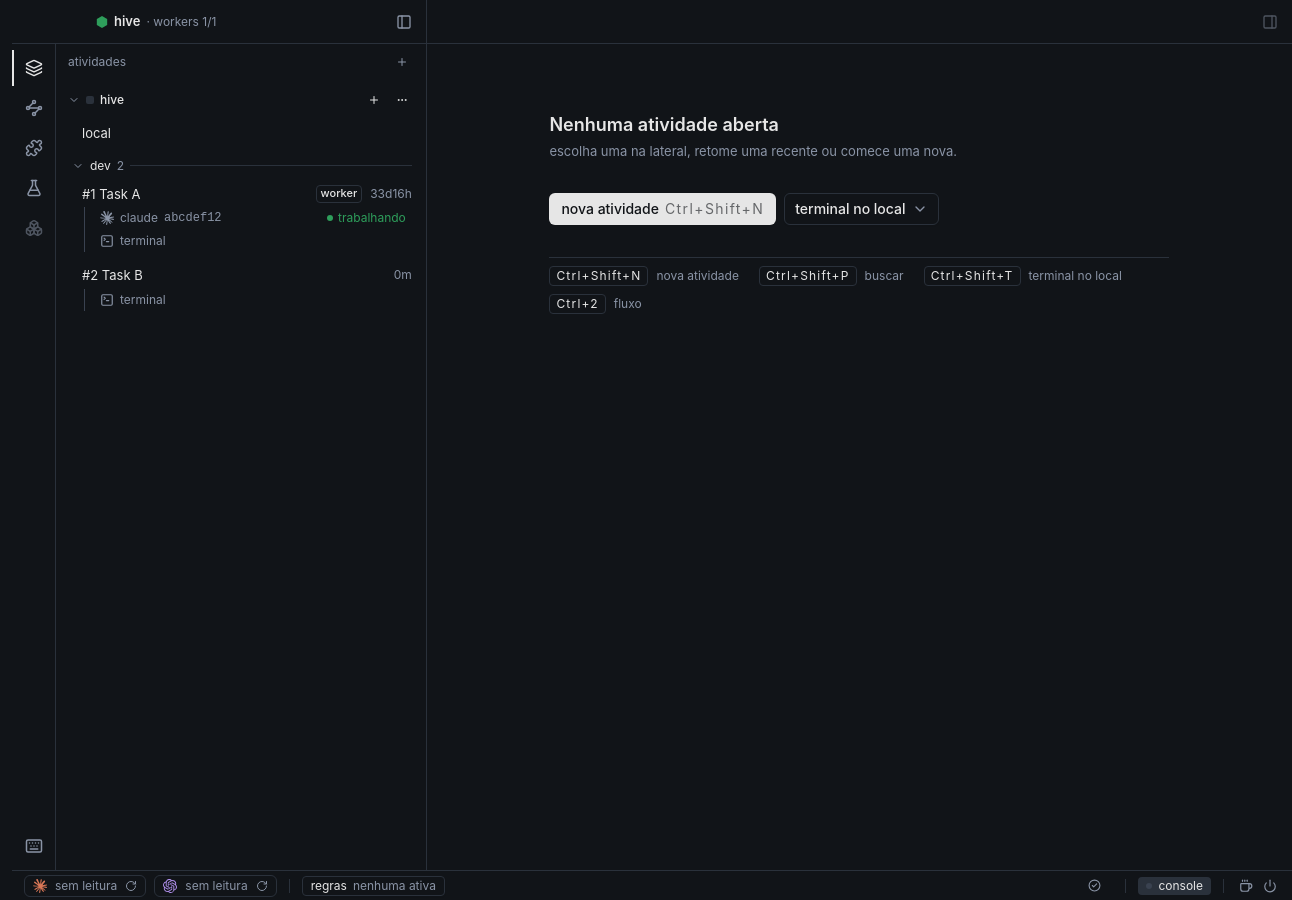
the rail lists atividades then fluxo and the header no view switch; Cmd+1 / Cmd+2 and the rail show the Atividades and Automação tabs, the center following (#53
Press 2
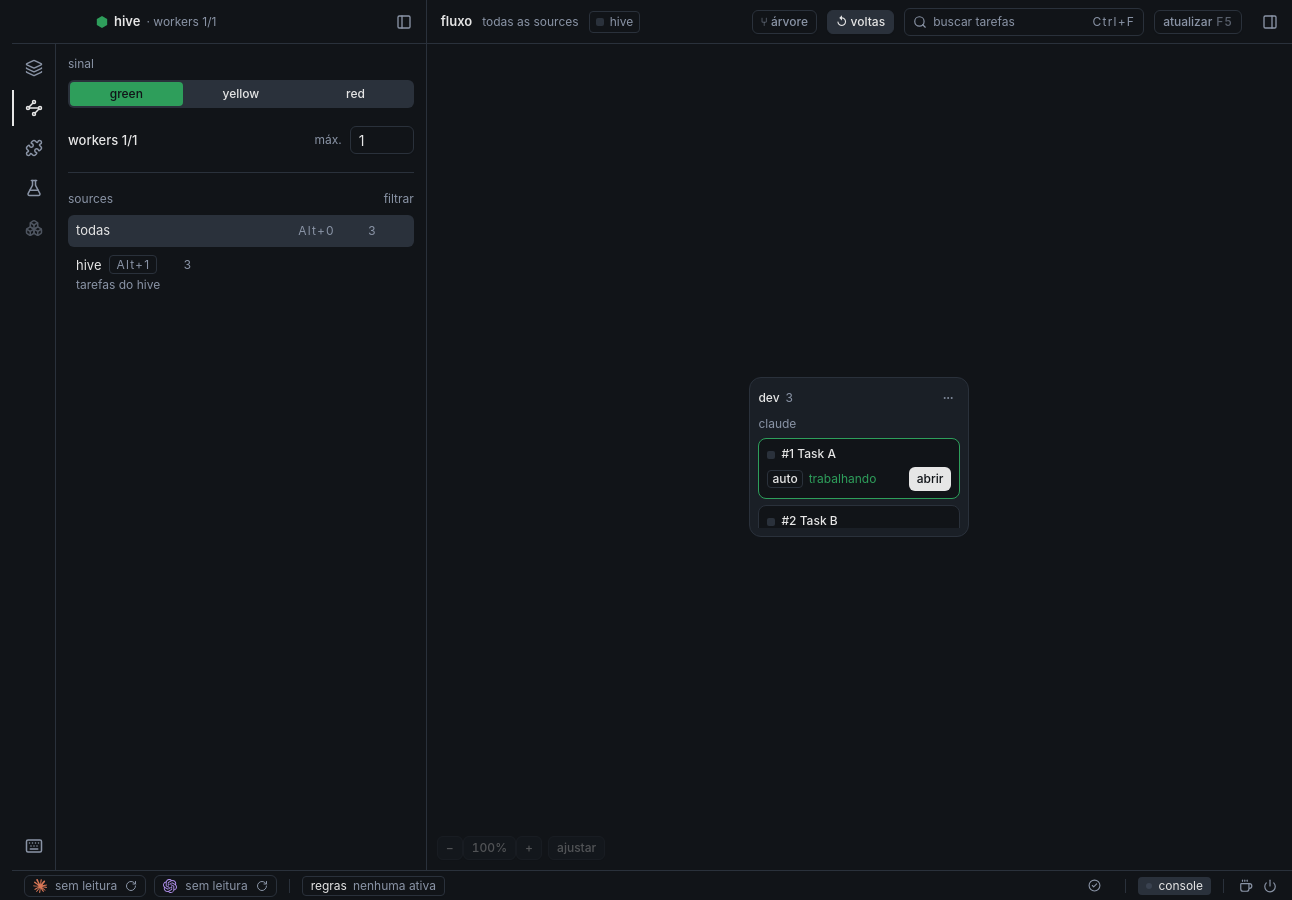
Expected: the element that starts with "dev" is shown
Press 1
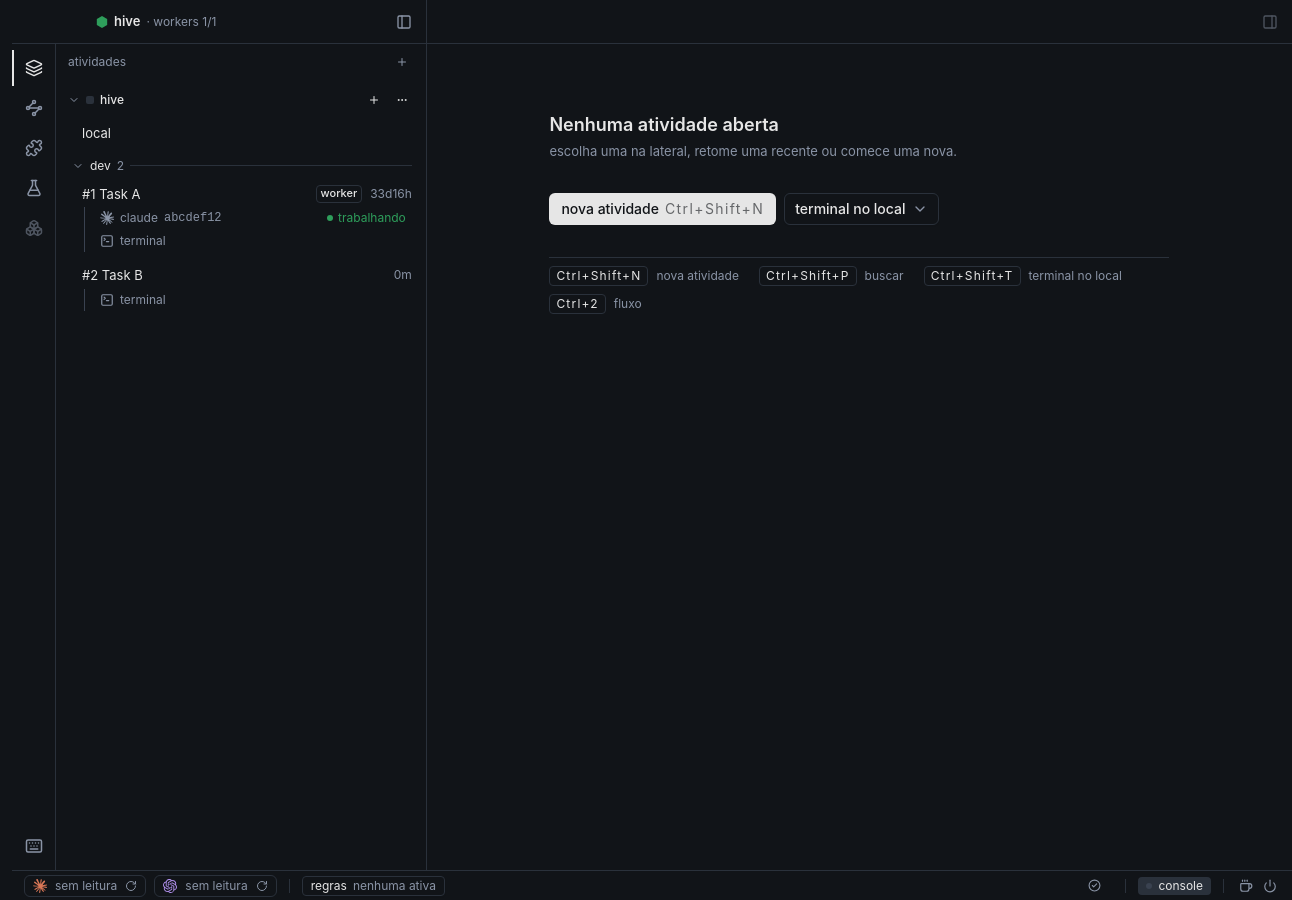
Expected: the heading "Nenhuma atividade aberta" is shown, [549,114,779,135]
Expected: the element "atividades" is shown, [62,50,420,311]
Click the button named "fluxo" at (34, 108), box [12,90,56,126]
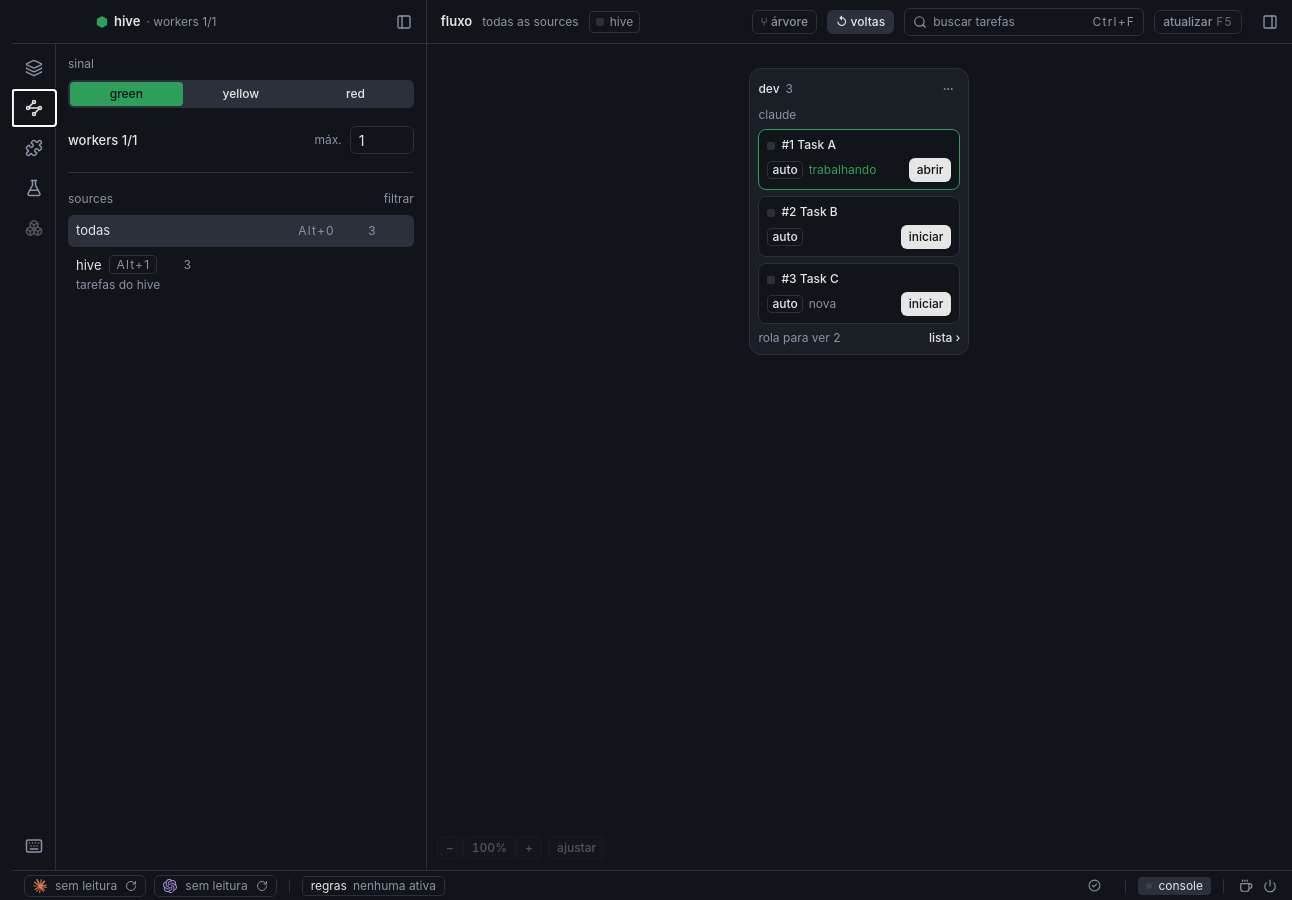
Expected: the element that starts with "dev" is shown
Expected: the element named "Automação" is shown, [68,56,414,299]
